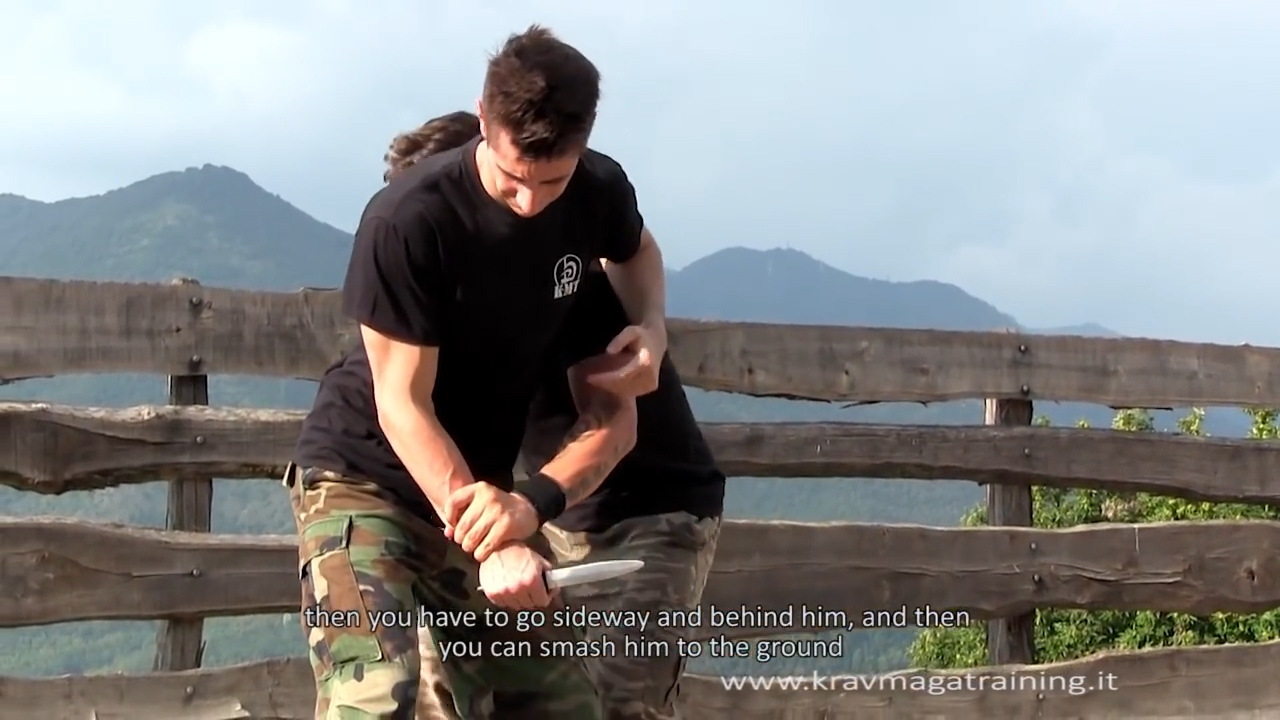knife: (469, 539, 658, 616)
